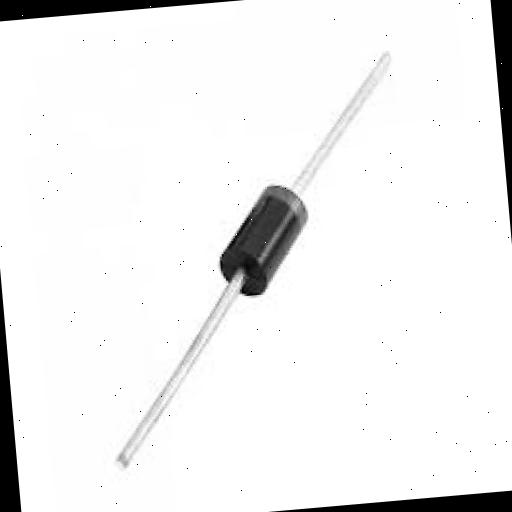DIODE: (79, 46, 424, 469)
